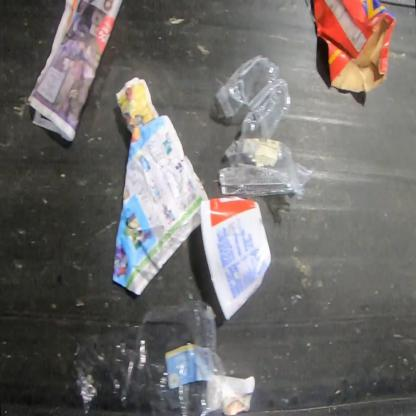cardboard: (313, 0, 399, 95)
rigid_plastic: (215, 54, 315, 200), (200, 195, 273, 323)
soft_plastic: (76, 299, 225, 416)
